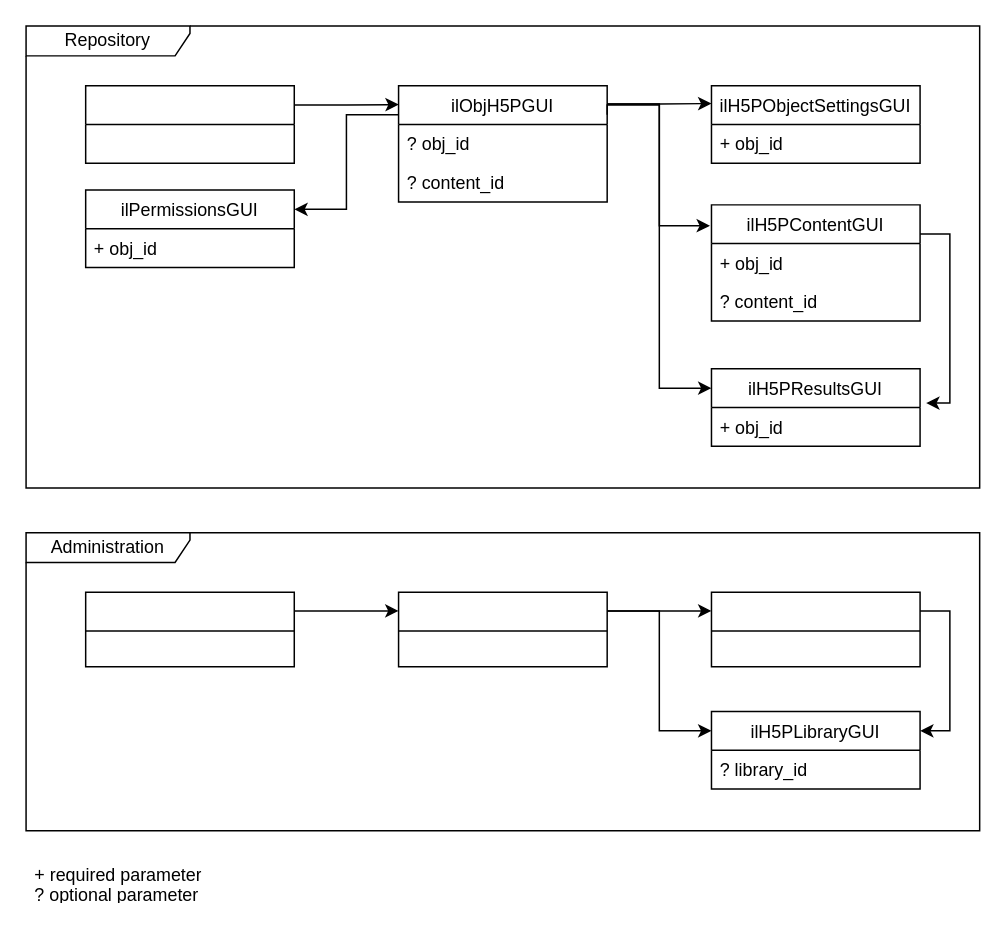
Image size: 1006x931. Some labels were removed from this diagram. Each missing label, with the centre of its shape:
"ilH5PConfigGUI" belongs at (502,629).
"ilH5PGeneralSettingsGUI" belongs at (815,629).
"ilObjComp...SettingsGUI" belongs at (189,629).
"ilRepositoryGUI" belongs at (189,123).
